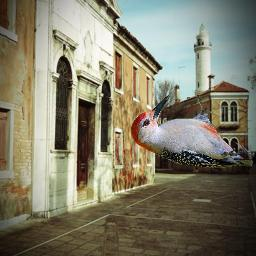Woodpecker: (131, 95, 252, 168)
